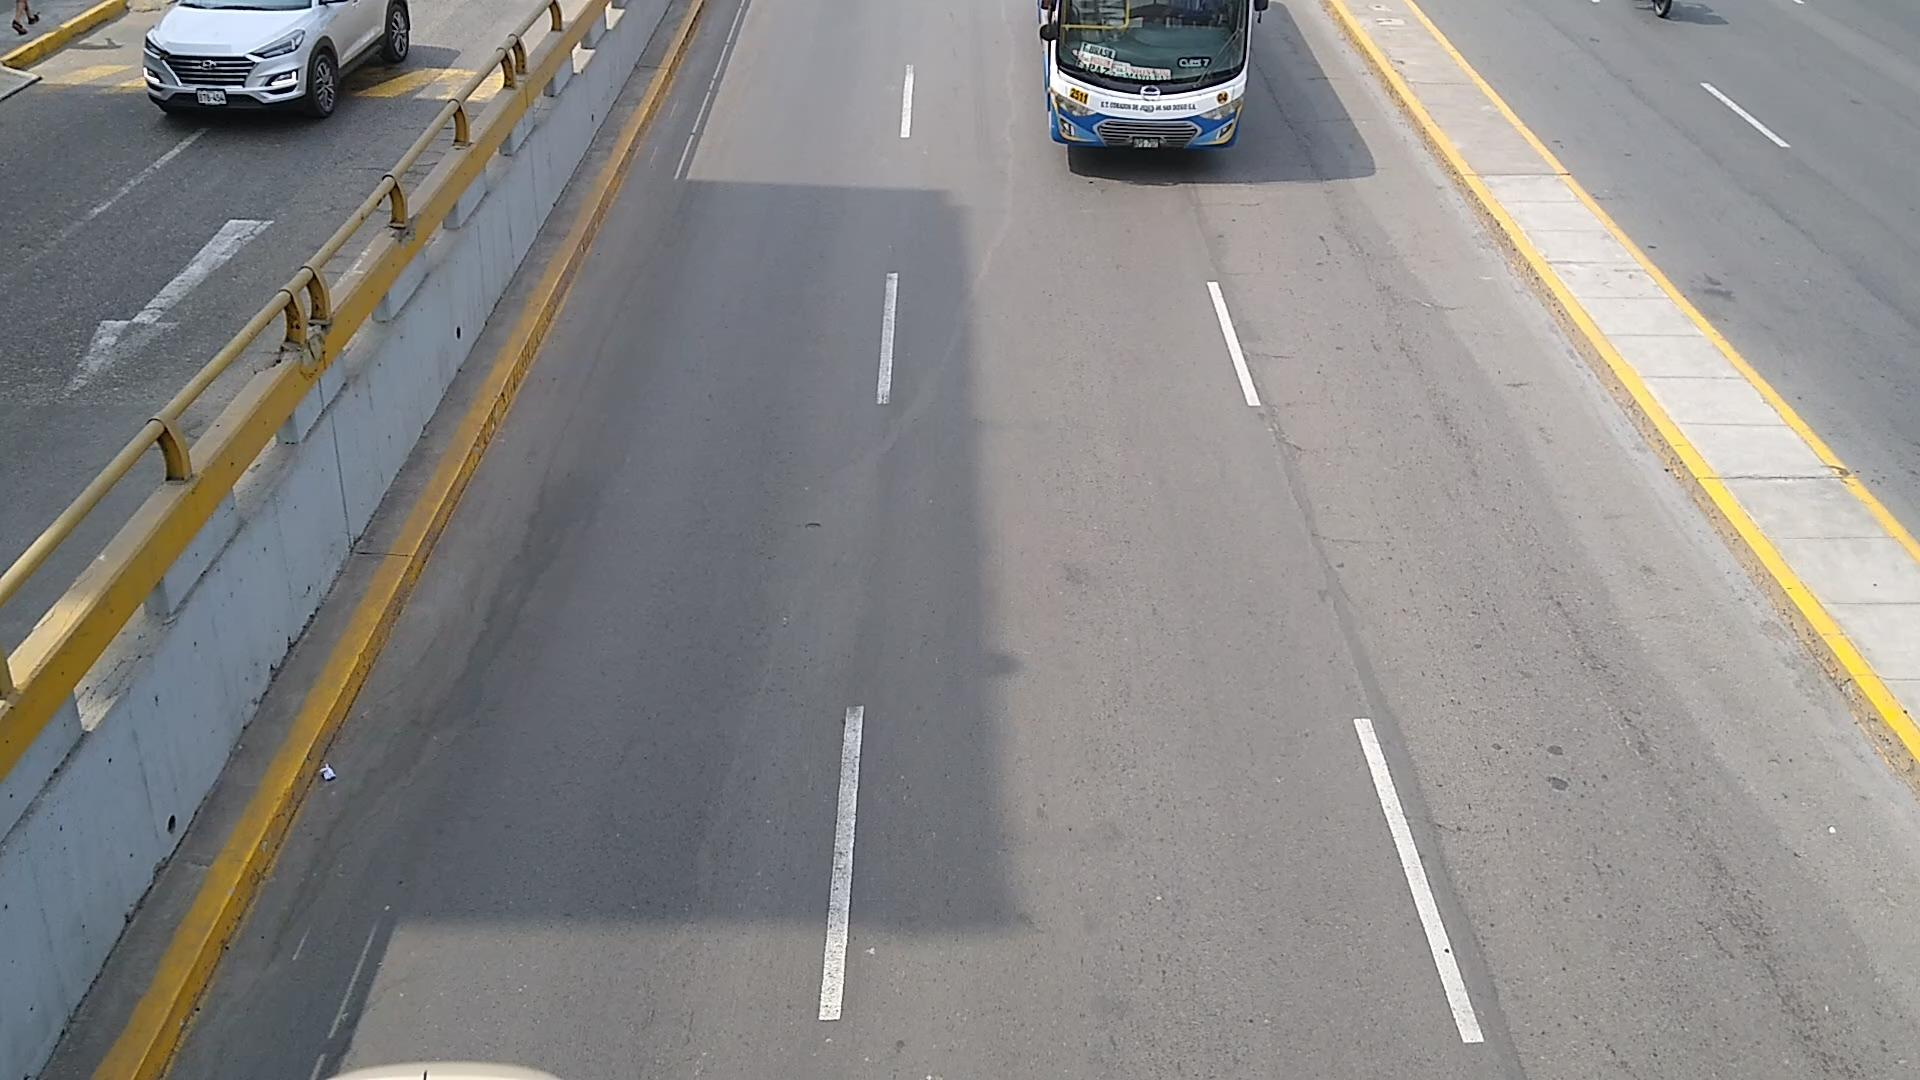bus: (1039, 0, 1267, 154)
car: (142, 0, 417, 116)
